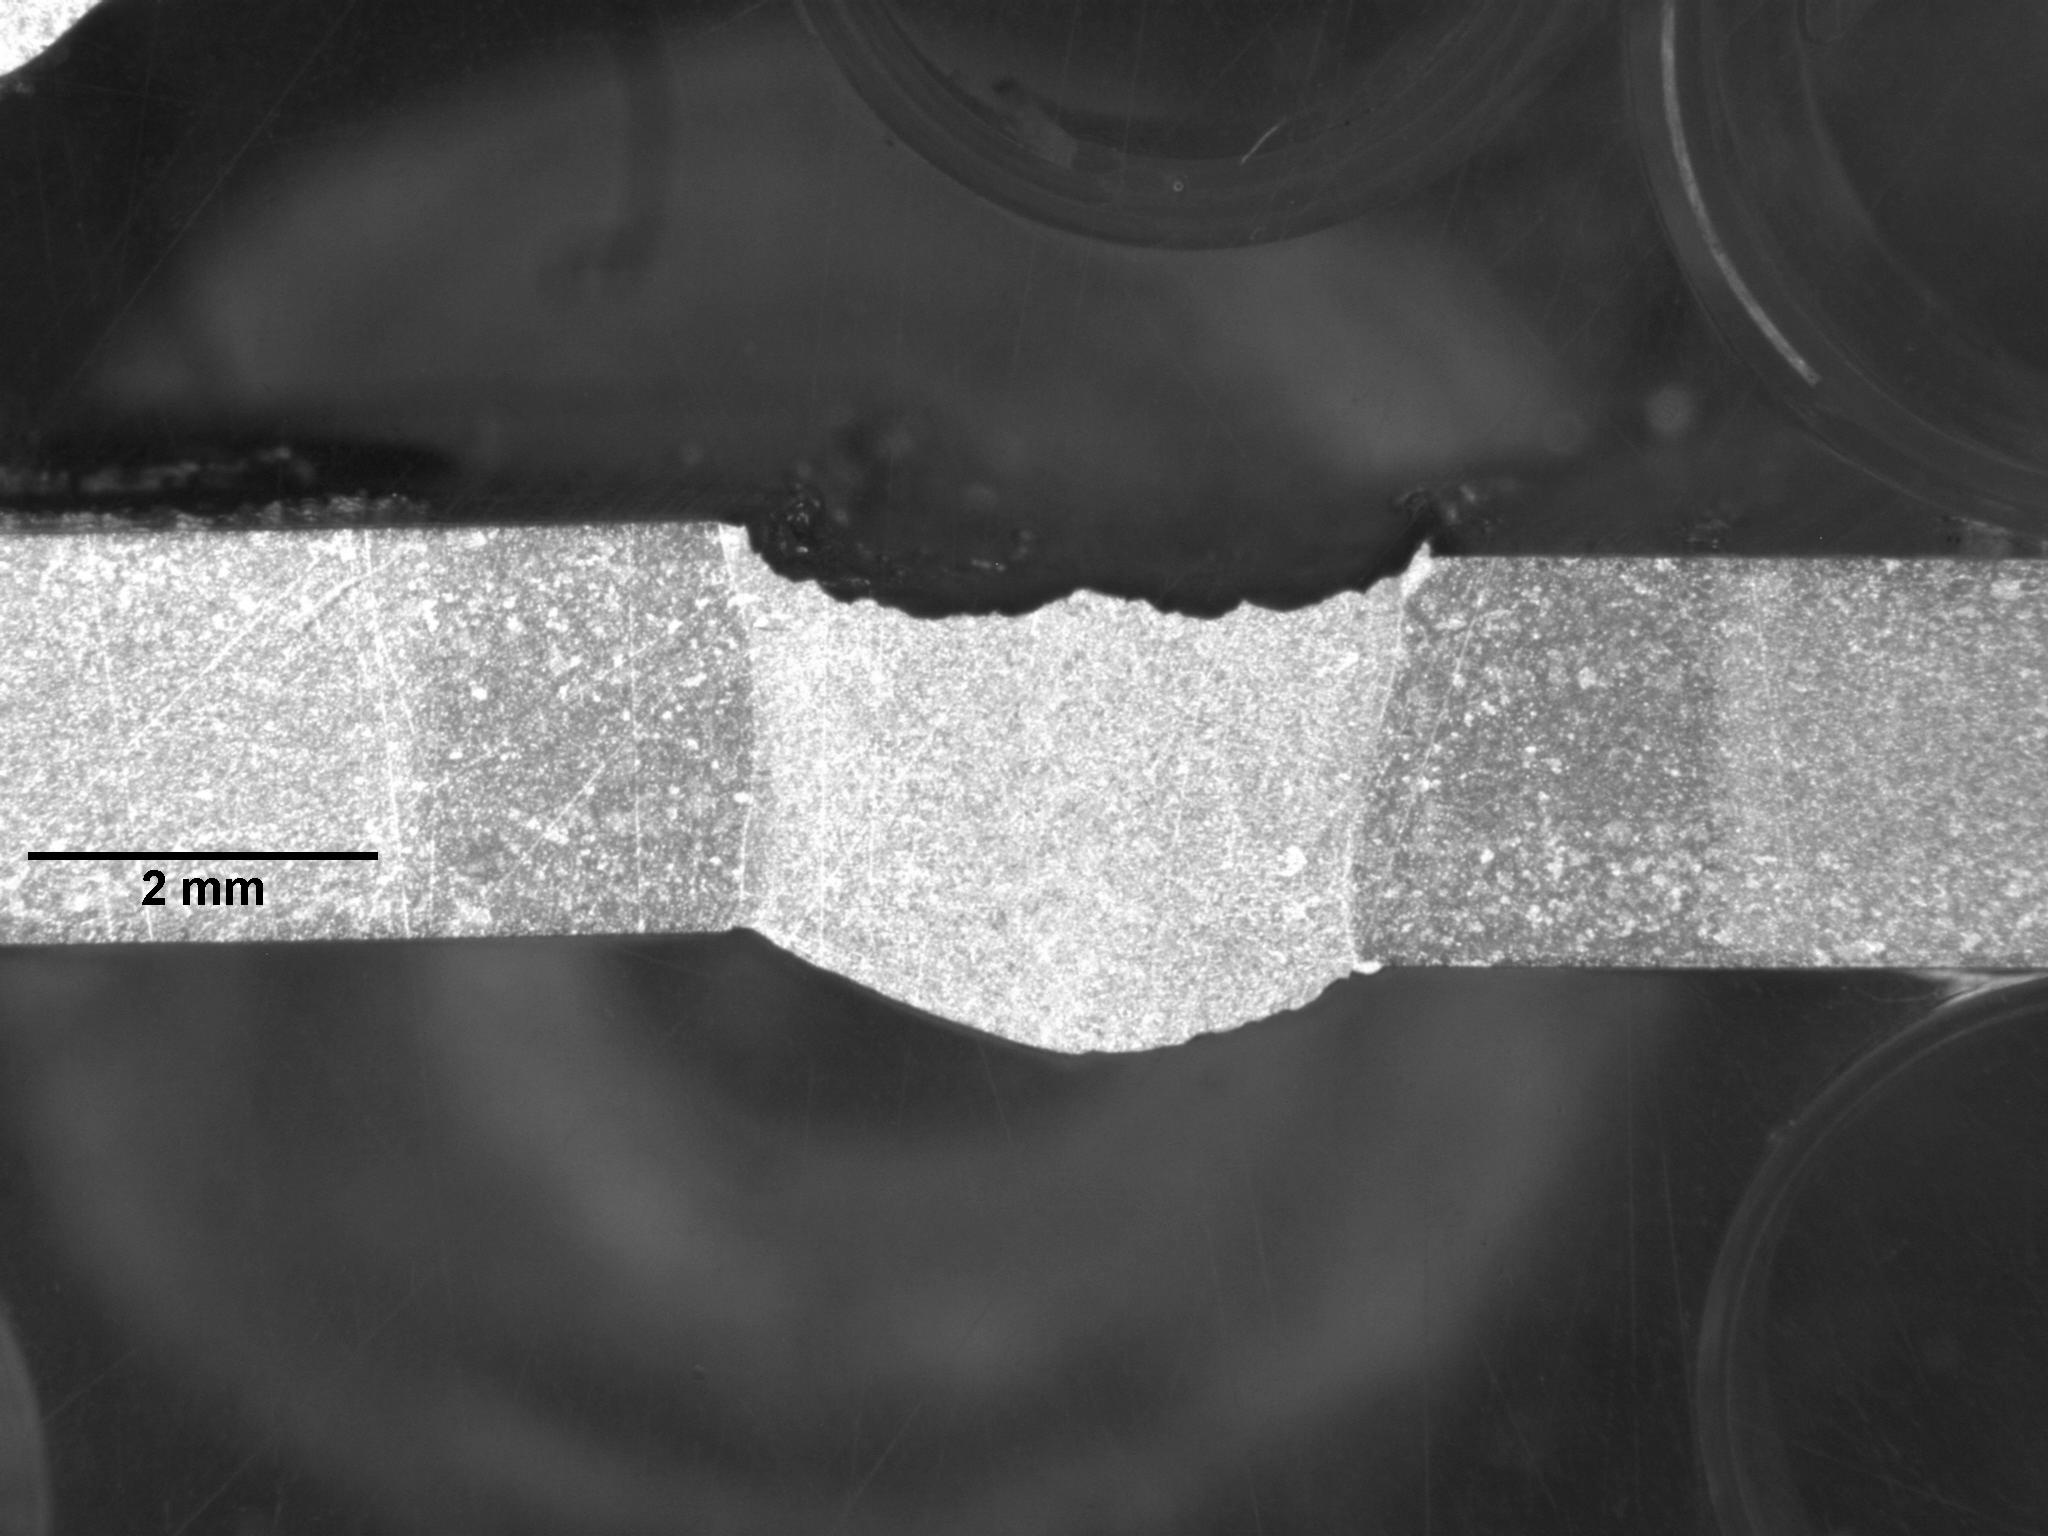Scale-bar: (18, 841, 385, 910)
